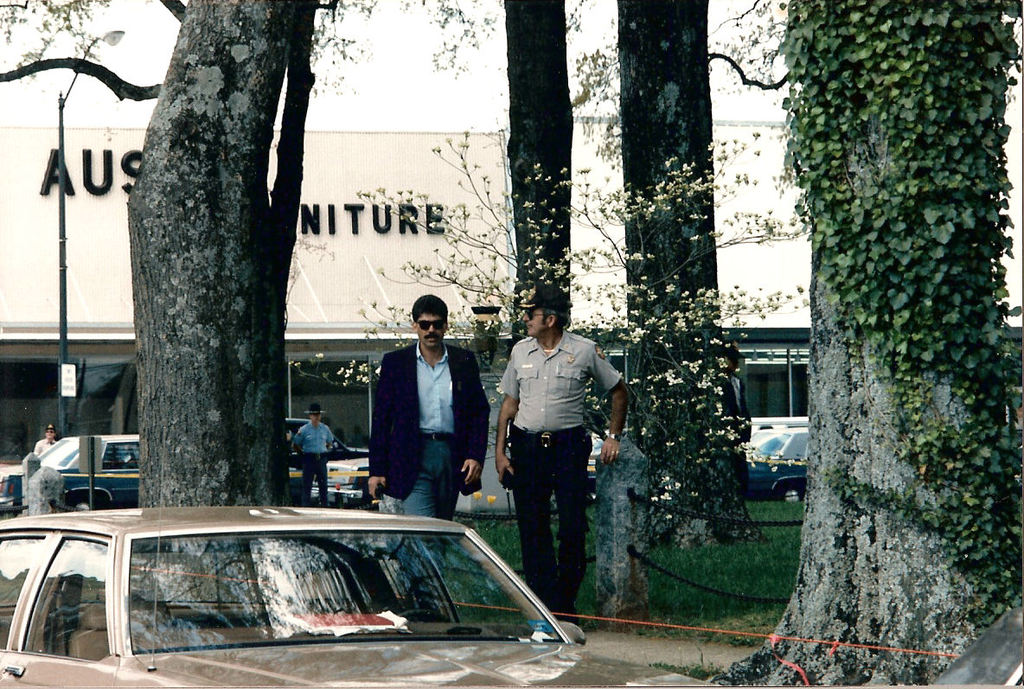Car: (0, 502, 728, 688), (0, 438, 140, 517), (740, 412, 812, 500)
